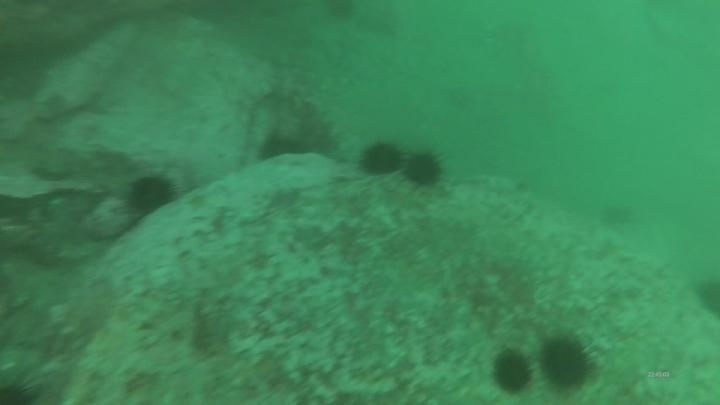echinus: (536, 331, 599, 393), (124, 172, 178, 218), (489, 348, 535, 397), (401, 148, 446, 190), (357, 139, 404, 178), (256, 131, 307, 165), (692, 275, 720, 320), (597, 200, 637, 230), (323, 0, 359, 24)
